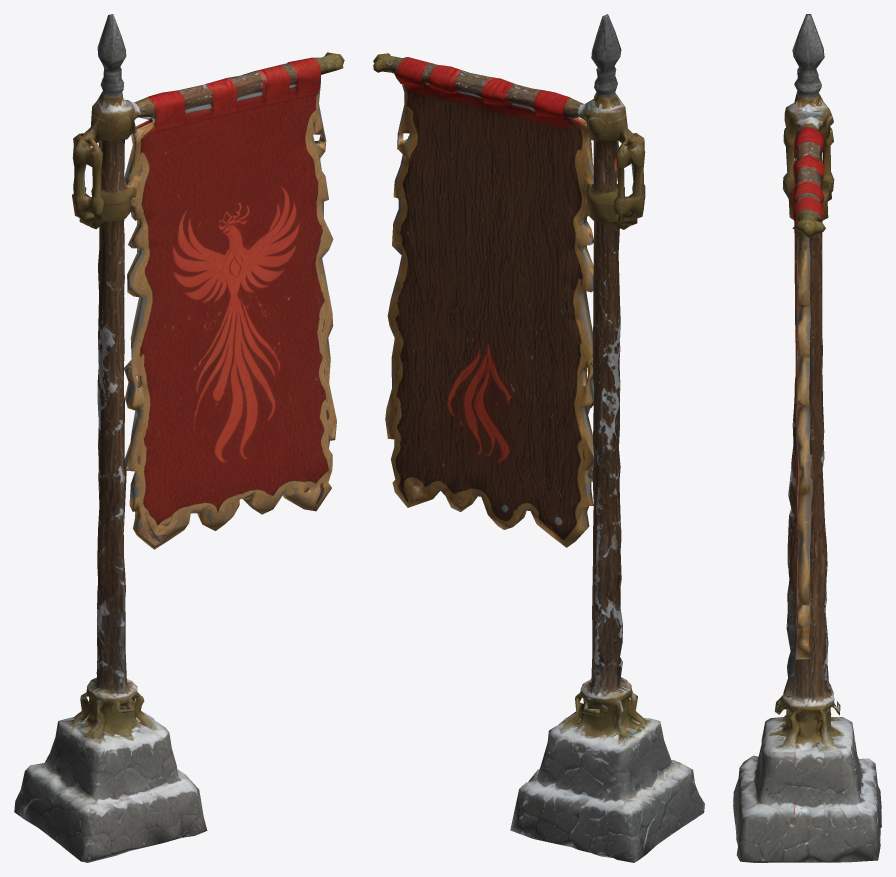
The model's file is PR_ObangFlag_Red.fbx.
The picture shows the model from 3 angles, left to right: view 1: azimuth 30°, elevation 25°; view 2: azimuth 150°, elevation 25°; view 3: azimuth 270°, elevation 25°; orthographic projection.
Visible parts, largest first — view 1: texture_mapping; view 2: texture_mapping; view 3: texture_mapping.
Part boxes in pixels (<box>): texture_mapping: <box>14,14,344,862</box>; texture_mapping: <box>373,14,704,862</box>; texture_mapping: <box>733,14,881,862</box>.
Bounding box in the file's own units: 0.3834 × 0.1642 × 0.9988.
1 material, 1 textured.
